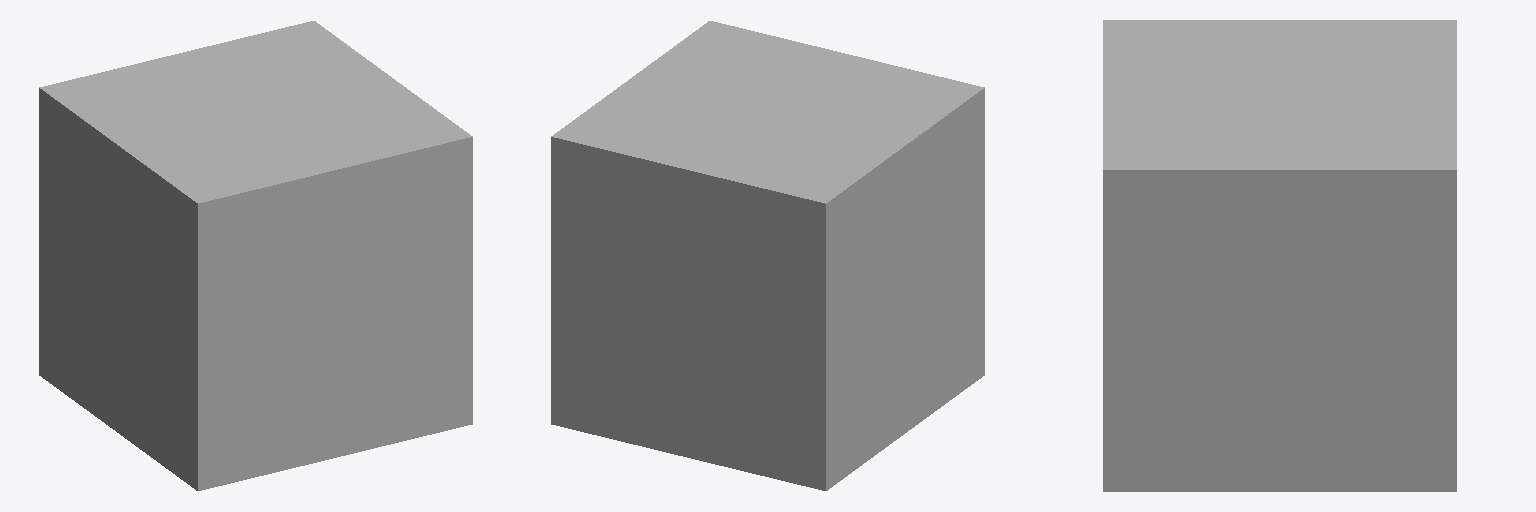
The robot description file, URDF, robot "wam":
<?xml version="1.0" ?>
<!-- =================================================================================== -->
<!-- |    This document was autogenerated by xacro from wam_4dof.urdf.xacro            | -->
<!-- |    EDITING THIS FILE BY HAND IS NOT RECOMMENDED                                 | -->
<!-- =================================================================================== -->
<robot name="wam" xmlns:controller="http://playerstage.sourceforge.net/gazebo/xmlschema/#controller" xmlns:interface="http://playerstage.sourceforge.net/gazebo/xmlschema/#interface" xmlns:sensor="http://playerstage.sourceforge.net/gazebo/xmlschema/#sensor" xmlns:xacro="http://www.ros.org/wiki/xacro">
  <!-- LINKS   -->
  <link name="world"/>
  <link name="wam_base">
    <inertial>
      <mass value="9.97059584"/>
      <origin rpy="0 0 0" xyz="0.0 0.0 0.0"/>
      <inertia ixx="1.0" ixy="0.0" ixz="0.0" iyy="1.0" iyz="0.0" izz="1.0"/>
    </inertial>
    <visual>
      <origin rpy="0 0 0" xyz="0.0 0.0 0.0"/>
      <geometry name="wam_base_visual">
        <mesh filename="package://wam_description/meshes/wam_base.mesh" scale="1.0 1.0 1.0"/>
      </geometry>
      <material name="White">
        <color rgba="0.0 0.0 0.0 1.0"/>
      </material>
    </visual>
    <collision>
      <origin rpy="0 0 0" xyz="0.0 0.0 0.0"/>
      <geometry name="wam_base_collision">
        <mesh filename="package://wam_description/meshes/wam_base.mesh" scale="1.0 1.0 1.0"/>
      </geometry>
      <contact_coefficients kd="1.0" kp="1000.0" mu="0"/>
    </collision>
  </link>
  <gazebo reference="wam_base">
    <material>Gazebo/White</material>
    <selfCollide>true</selfCollide>
  </gazebo>
  <joint name="wam_base_joint" type="fixed">
    <parent link="world"/>
    <child link="wam_base"/>
    <origin rpy="0 0 0" xyz="0.0 0.0 0.0"/>
  </joint>
  <link name="wam_j1">
    <inertial>
      <mass value="10.76768767"/>
      <origin rpy="0 0 0" xyz="0.0 0.0 0.0"/>
      <inertia ixx="1.0" ixy="0.0" ixz="0.0" iyy="1.0" iyz="0.0" izz="1.0"/>
    </inertial>
    <visual>
      <origin rpy="0 0 0" xyz="0.0 0.0 0.0"/>
      <geometry name="wam_j1_visual">
        <mesh filename="package://wam_description/meshes/link_j1.mesh" scale="1.0 1.0 1.0"/>
      </geometry>
      <material name="Grey">
        <color rgba="0.75 0.75 0.75 1.0"/>
      </material>
    </visual>
    <collision>
      <origin rpy="0 0 0" xyz="0.0 0.0 0.0"/>
      <geometry name="wam_j1_collision">
        <mesh filename="package://wam_description/meshes/link_j1.mesh" scale="1.0 1.0 1.0"/>
      </geometry>
      <contact_coefficients kd="1.0" kp="1000.0" mu="0"/>
    </collision>
  </link>
  <gazebo reference="wam_j1">
    <material>Gazebo/White</material>
    <selfCollide>true</selfCollide>
  </gazebo>
  <joint name="wam_j1_joint" type="revolute">
    <parent link="wam_base"/>
    <child link="wam_j1"/>
    <origin rpy="0 0 0" xyz="0.22 0.14 0.346"/>
    <axis xyz="0 0 1"/>
    <limit effort="30" lower="-2.6" upper="2.6" velocity="2.0"/>
    <dynamics damping="100"/>
  </joint>
  <transmission name="wam_j1_transmission" type="pr2_mechanism_model/SimpleTransmission">
    <actuator name="j1_motor"/>
    <joint name="wam_j1_joint"/>
    <mechanicalReduction>1</mechanicalReduction>
    <motorTorqueConstant>1</motorTorqueConstant>
  </transmission>
  <link name="wam_j2">
    <inertial>
      <mass value="3.87493756"/>
      <origin rpy="0 0 0" xyz="0 0 0"/>
      <inertia ixx="1.0" ixy="0.0" ixz="0.0" iyy="0.1" iyz="0.0" izz="0.1"/>
    </inertial>
    <visual>
      <origin rpy="0 0 0" xyz="0.0 0.0 0.0"/>
      <geometry name="wam_j2_visual">
        <mesh filename="package://wam_description/meshes/link_j2.mesh" scale="1.0 1.0 1.0"/>
      </geometry>
      <material name="Grey">
        <color rgba="0.75 0.75 0.75 1.0"/>
      </material>
    </visual>
    <collision>
      <origin rpy="0 0 0" xyz="0.0 0.0 0.0"/>
      <geometry name="wam_j2_collision">
        <mesh filename="package://wam_description/meshes/link_j2.mesh" scale="1.0 1.0 1.0"/>
      </geometry>
      <contact_coefficients kd="1.0" kp="1000.0" mu="0"/>
    </collision>
  </link>
  <gazebo reference="wam_j2">
    <material>Gazebo/Grey</material>
    <selfCollide>true</selfCollide>
  </gazebo>
  <joint name="wam_j2_joint" type="revolute">
    <parent link="wam_j1"/>
    <child link="wam_j2"/>
    <origin rpy="0 0 0" xyz="0.0 0.0 0.0"/>
    <axis xyz="0 1 0"/>
    <limit effort="30" lower="-2.0" upper="2.0" velocity="2.0"/>
    <dynamics damping="100"/>
  </joint>
  <transmission name="wam_j2_transmission" type="pr2_mechanism_model/SimpleTransmission">
    <actuator name="j2_motor"/>
    <joint name="wam_j2_joint"/>
    <mechanicalReduction>1</mechanicalReduction>
    <motorTorqueConstant>1</motorTorqueConstant>
  </transmission>
  <link name="wam_j3">
    <inertial>
      <mass value="1.80228141"/>
      <!-- Weird origin -->
      <origin rpy="0 0 0" xyz="0 0 0.225"/>
      <inertia ixx="1.0" ixy="0.0" ixz="0.0" iyy="0.1" iyz="0.0" izz="0.1"/>
    </inertial>
    <visual>
      <origin rpy="0 0 0" xyz="0.0 0.0 0.0"/>
      <geometry name="wam_j3_visual">
        <mesh filename="package://wam_description/meshes/link_j3.mesh" scale="1.0 1.0 1.0"/>
      </geometry>
      <material name="Grey">
        <color rgba="0.75 0.75 0.75 1.0"/>
      </material>
    </visual>
    <collision>
      <origin rpy="0 0 0" xyz="0.0 0.0 0.0"/>
      <geometry name="wam_j3_collision">
        <mesh filename="package://wam_description/meshes/link_j3.mesh" scale="1.0 1.0 1.0"/>
      </geometry>
      <contact_coefficients kd="1.0" kp="1000.0" mu="0"/>
    </collision>
  </link>
  <gazebo reference="wam_j3">
    <material>Gazebo/Grey</material>
    <selfCollide>false</selfCollide>
  </gazebo>
  <joint name="wam_j3_joint" type="revolute">
    <parent link="wam_j2"/>
    <child link="wam_j3"/>
    <origin rpy="0 0 0" xyz="0.0 0.0 0.0"/>
    <axis xyz="0 0 1"/>
    <limit effort="30" lower="-2.8" upper="2.8" velocity="2.0"/>
    <dynamics damping="100"/>
  </joint>
  <transmission name="wam_j3_transmission" type="pr2_mechanism_model/SimpleTransmission">
    <actuator name="j3_motor"/>
    <joint name="wam_j3_joint"/>
    <mechanicalReduction>1</mechanicalReduction>
    <motorTorqueConstant>1</motorTorqueConstant>
  </transmission>
  <link name="wam_j4">
    <inertial>
      <mass value="1.06513649"/>
      <!-- another strange origin -->
      <origin rpy="0 0 0" xyz="-0.045 -0.15 0"/>
      <inertia ixx="1.0" ixy="0.0" ixz="0.0" iyy="0.1" iyz="0.0" izz="0.1"/>
    </inertial>
    <visual>
      <origin rpy="0 0 0" xyz="0.0 0.0 0.0"/>
      <geometry name="wam_j4_visual">
        <mesh filename="package://wam_description/meshes/link_j4.mesh" scale="1.0 1.0 1.0"/>
      </geometry>
      <material name="Grey">
        <color rgba="0.75 0.75 0.75 1.0"/>
      </material>
    </visual>
    <collision>
      <origin rpy="0 0 0" xyz="0.0 0.0 0.0"/>
      <geometry name="wam_j4_collision">
        <mesh filename="package://wam_description/meshes/link_j4.mesh" scale="1.0 1.0 1.0"/>
      </geometry>
      <contact_coefficients kd="1.0" kp="1000.0" mu="0"/>
    </collision>
  </link>
  <gazebo reference="wam_j4">
    <material>Gazebo/Grey</material>
    <selfCollide>true</selfCollide>
  </gazebo>
  <joint name="wam_j4_joint" type="revolute">
    <parent link="wam_j3"/>
    <child link="wam_j4"/>
    <origin rpy="-1.57079632679 0 0" xyz="0.045 0.0 0.55"/>
    <axis xyz="0 0 1"/>
    <limit effort="35" lower="-0.9" upper="2.8" velocity="2.0"/>
    <dynamics damping="100"/>
  </joint>
  <transmission name="wam_j4_transmission" type="pr2_mechanism_model/SimpleTransmission">
    <actuator name="j4_motor"/>
    <joint name="wam_j4_joint"/>
    <mechanicalReduction>1</mechanicalReduction>
    <motorTorqueConstant>1</motorTorqueConstant>
  </transmission>
  <link name="wam_tool_plate">
    <inertial>
      <mass value="0.0001"/>
      <inertia ixx="1.0" ixy="0.0" ixz="0.0" iyy="1.0" iyz="0.0" izz="1.0"/>
    </inertial>
    <visual>
      <origin rpy="0 0 0" xyz="0.0 0.0 0.0"/>
      <geometry name="wam_tool_plate_visual">
        <box size="0.001 0.001 0.001"/>
      </geometry>
      <material name="Grey">
        <color rgba="0.75 0.75 0.75 1.0"/>
      </material>
    </visual>
    <collision>
      <origin rpy="0 0 0" xyz="0.0 0.0 0.0"/>
      <geometry name="wam_base_collision">
        <box size="0.001 0.001 0.001"/>
      </geometry>
      <contact_coefficients kd="1.0" kp="1000.0" mu="0"/>
    </collision>
  </link>
  <gazebo reference="wam_tool_plate">
    <material>Gazebo/Grey</material>
    <selfCollide>true</selfCollide>
  </gazebo>
  <joint name="wam_tool_plate_joint" type="fixed">
    <parent link="wam_j4"/>
    <child link="wam_tool_plate"/>
    <origin rpy="1.57079632679 0 0" xyz="-0.045 -0.3 0.0"/>
  </joint>
</robot>

--- Render facts (derived) ---
3 views of the same robot in one strip: view 1: azimuth 30°, elevation 25°; view 2: azimuth 150°, elevation 25°; view 3: azimuth 270°, elevation 25° (orthographic).
Model wam with 7 links and 6 joints (4 revolute, 2 fixed), rooted at world, posed all joints at 0.
Visible links, largest first — view 1: wam_tool_plate; view 2: wam_tool_plate; view 3: wam_tool_plate.
Link boxes in pixels (x1,y1,x2,y2): wam_tool_plate: (39, 21, 472, 490); wam_tool_plate: (551, 21, 984, 490); wam_tool_plate: (1103, 20, 1456, 491).
Bounding box of the posed robot: 0.001 × 0.001 × 0.001 m (x, y, z).
0 mesh visuals loaded from 5 distinct referenced files (none loaded); not drawn: 5 (reference not matched to a file when rendering).